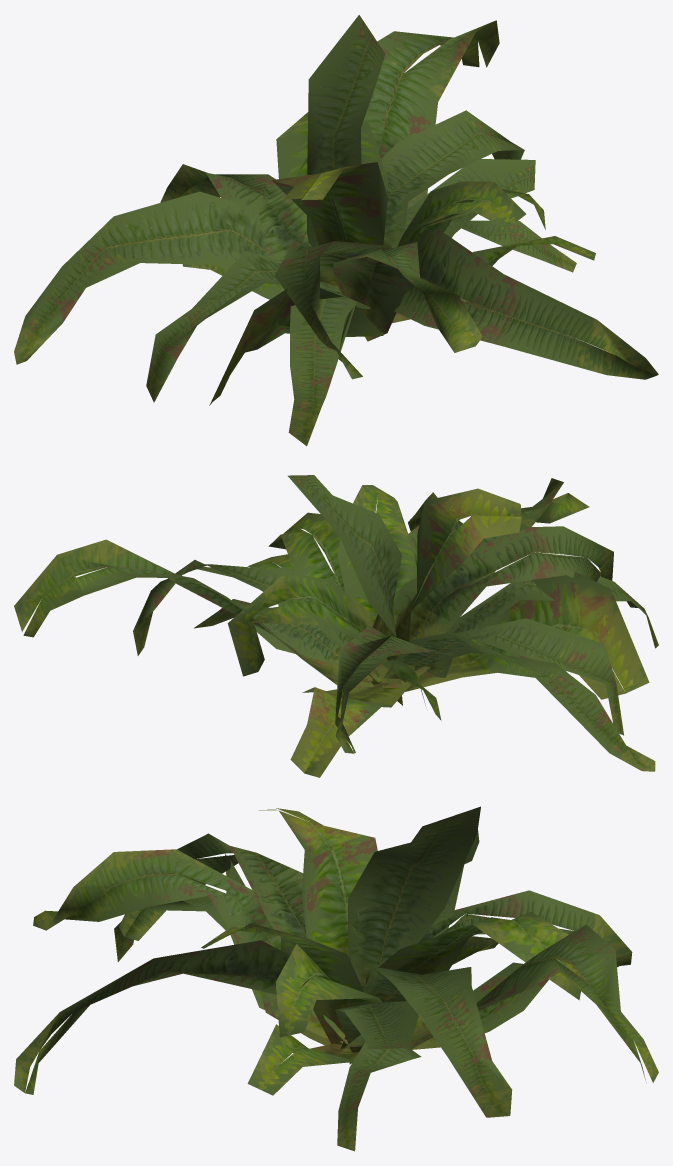
The model's file is fern_a.glb.
3 views of the same model, one above another, from view 1: azimuth 30°, elevation 25°; view 2: azimuth 150°, elevation 25°; view 3: azimuth 270°, elevation 25° (orthographic). The views are drawn at different scales.
Parts seen in each view (by area): view 1: fern_a; view 2: fern_a; view 3: fern_a.
Boxes of the visible parts, x1,y1,x2,y2 form: fern_a: (14,15,658,446); fern_a: (14,475,658,777); fern_a: (14,806,658,1151).
Size of the model in its own units: 1.14 by 0.5 by 1.02.
Materials: 1 (1 with a texture image).
